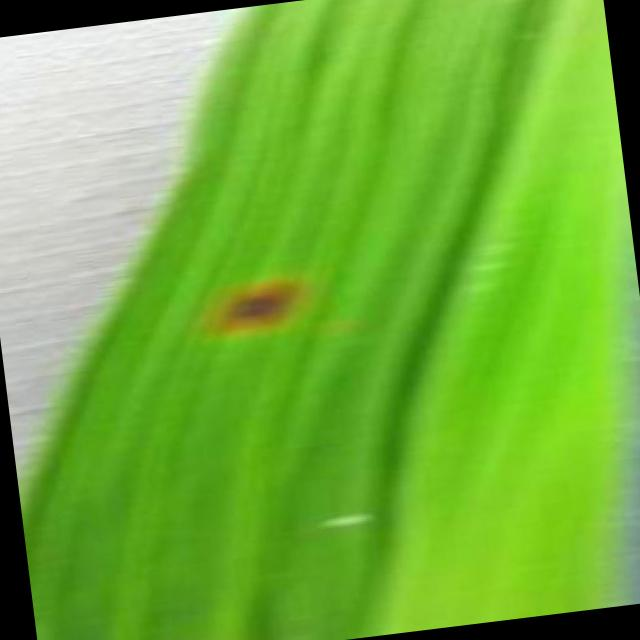Rice_Brownspot: (181, 238, 324, 368), (298, 485, 386, 548)
